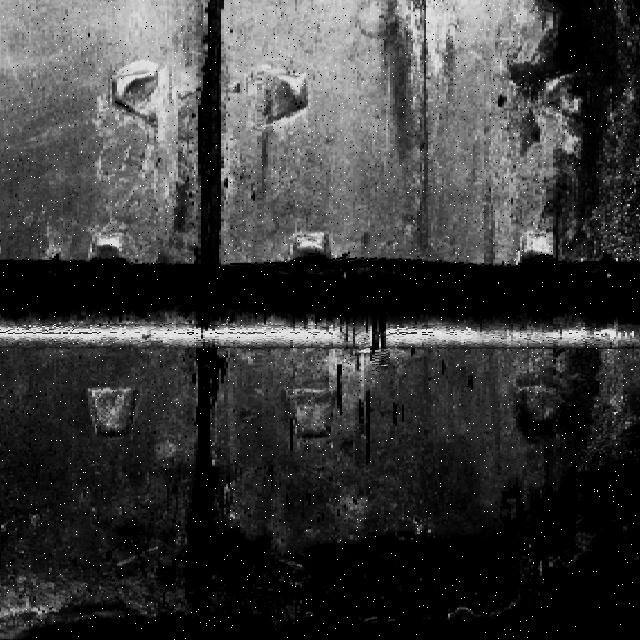leakage: (244, 471, 637, 640), (508, 6, 640, 260), (180, 346, 233, 615), (192, 1, 232, 272)
